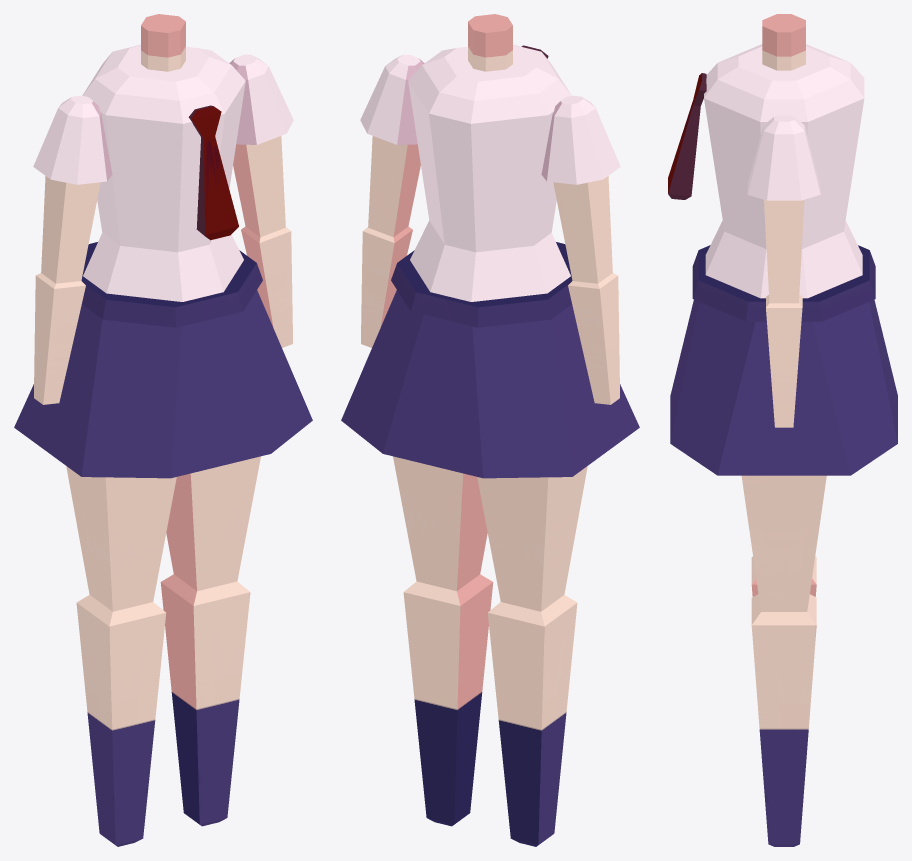
Rendered from LowPolyBody.glb.
The picture shows the model from 3 angles, left to right: view 1: azimuth 30°, elevation 25°; view 2: azimuth 150°, elevation 25°; view 3: azimuth 270°, elevation 25°; orthographic projection.
Parts seen in each view (by area): view 1: Cube, Cube.002, Cube.001; view 2: Cube, Cube.002, Cube.001; view 3: Cube, Cube.002, Cube.001.
Boxes of the visible parts, x1,y1,x2,y2 form: Cube: [14, 14, 312, 478]; Cube.002: [66, 456, 260, 846]; Cube.001: [33, 54, 293, 404]; Cube: [341, 14, 639, 478]; Cube.002: [393, 456, 587, 846]; Cube.001: [360, 54, 620, 404]; Cube: [668, 14, 897, 475]; Cube.002: [741, 475, 826, 846]; Cube.001: [747, 115, 820, 427].
Size of the model in its own units: 0.553 by 1.71 by 0.4448.
Materials: 1 (1 with a texture image).
